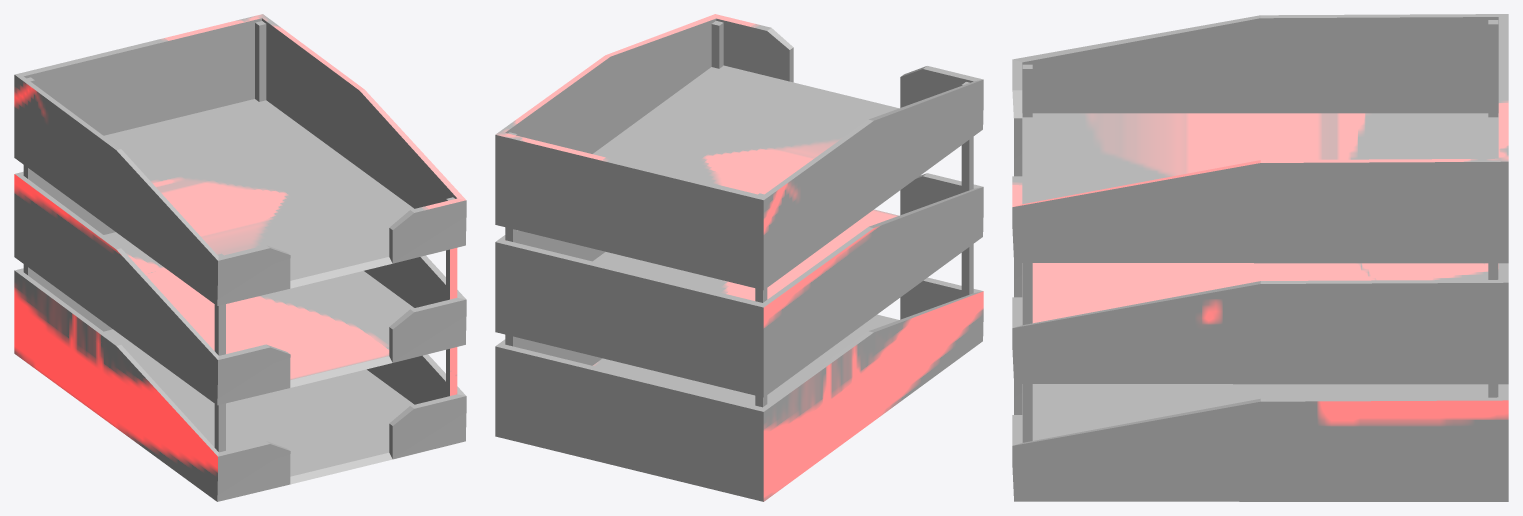
The model's file is SM_PaperHolder_C.fbx.
3 renders of one model, left to right at view 1: azimuth 30°, elevation 25°; view 2: azimuth 150°, elevation 25°; view 3: azimuth 270°, elevation 25°, orthographic. The views are drawn at different scales.
Visible parts, largest first — view 1: SM_PaperHolder_C_LOD0; view 2: SM_PaperHolder_C_LOD0; view 3: SM_PaperHolder_C_LOD0.
Part boxes in pixels (x1=…): SM_PaperHolder_C_LOD0: x1=14, y1=14, x2=466, y2=501; SM_PaperHolder_C_LOD0: x1=495, y1=14, x2=983, y2=501; SM_PaperHolder_C_LOD0: x1=1012, y1=14, x2=1508, y2=501.
Size of the model in its own units: 25.14 by 35.66 by 26.99.
